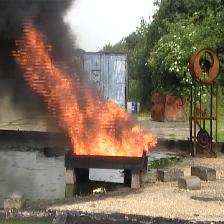fire: (64, 112, 148, 155), (20, 39, 46, 77), (43, 80, 73, 106)
smoke: (2, 3, 65, 26), (58, 33, 78, 68), (15, 81, 29, 115), (5, 41, 13, 79)
